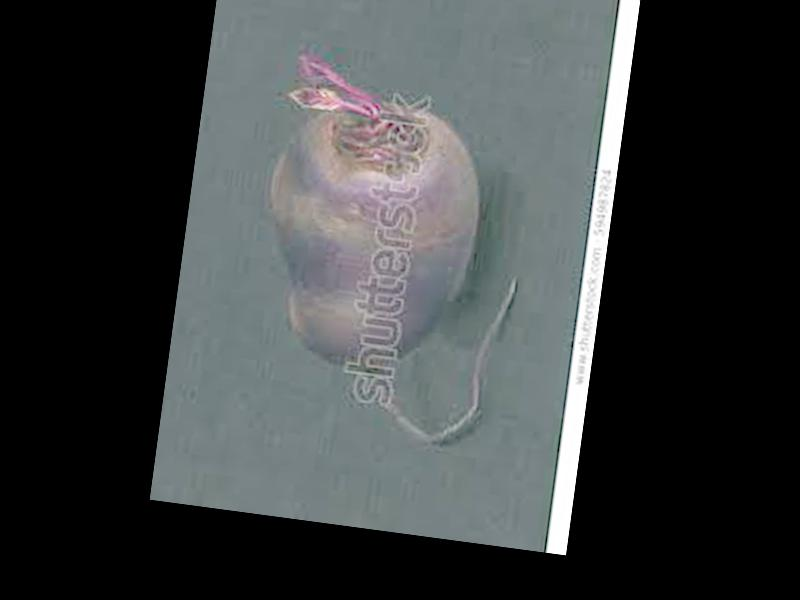Beet: (239, 44, 543, 449)
